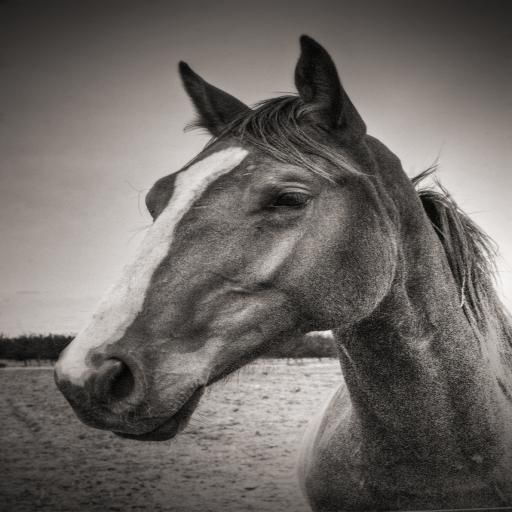horse: (52, 32, 512, 512)
